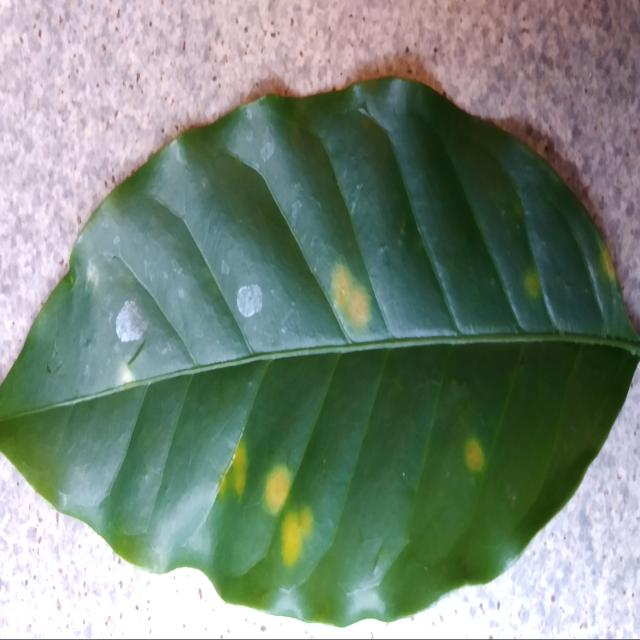Enfermedad-Roya: (0, 77, 640, 627)
